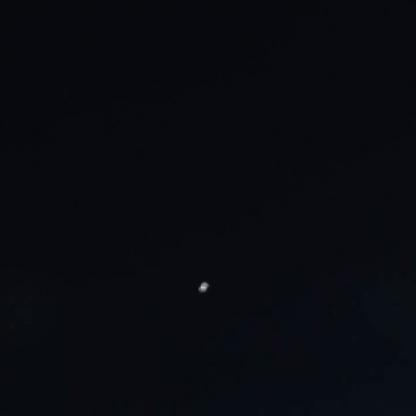ball: (190, 272, 213, 298)
